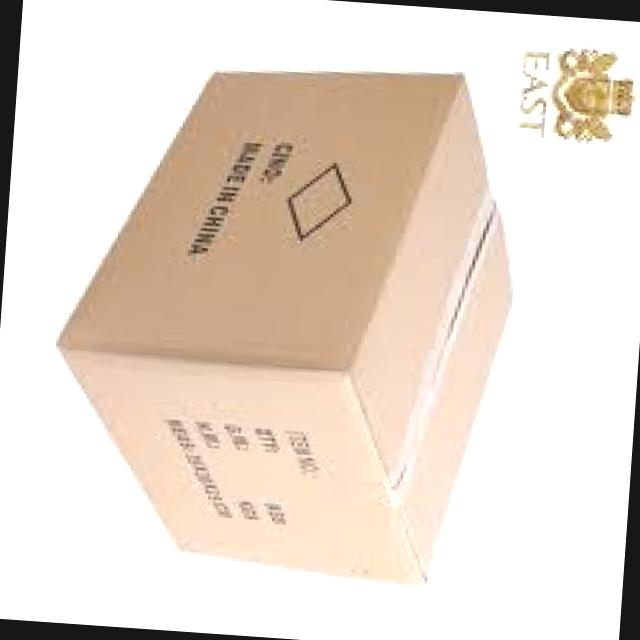cardboard: (58, 73, 510, 582)
